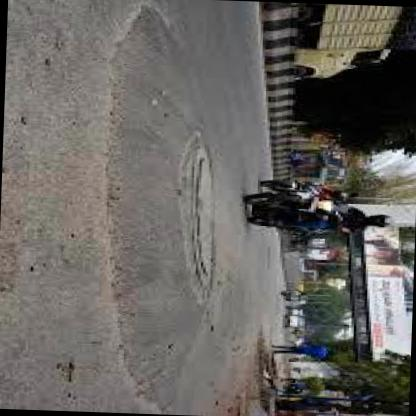manholes: (160, 138, 248, 298)
